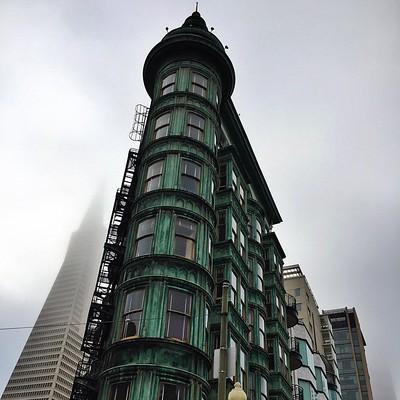building: (67, 14, 287, 400)
